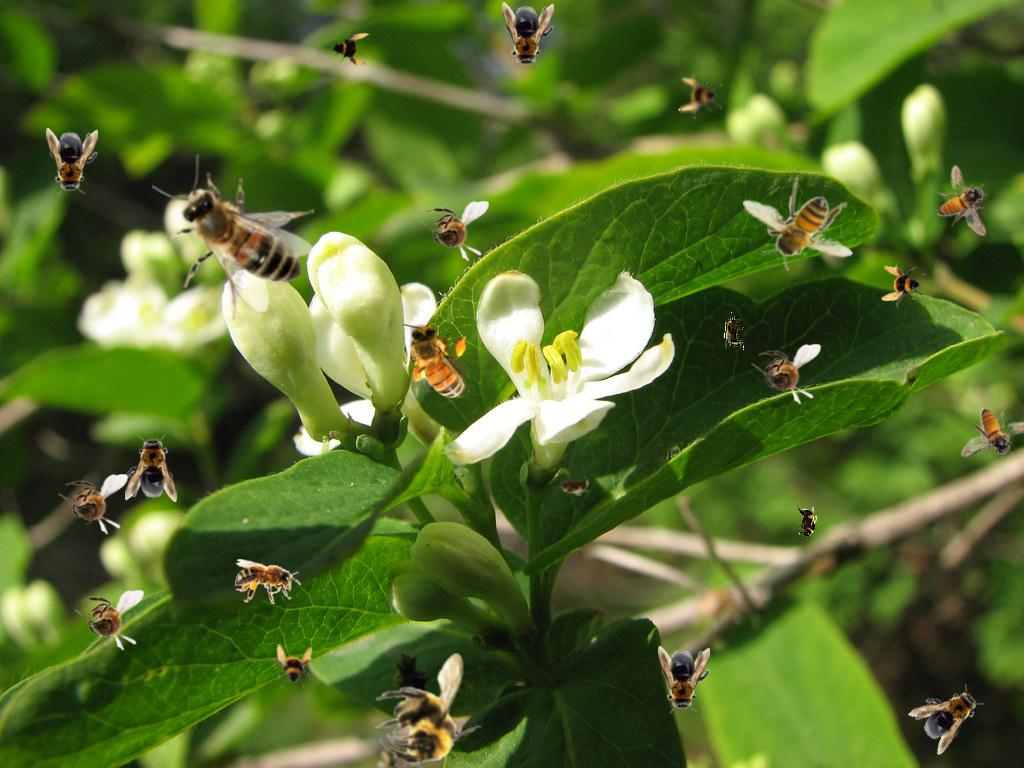Bee: (152, 154, 314, 321), (375, 653, 482, 768), (742, 177, 853, 271), (906, 672, 992, 756), (402, 318, 470, 411), (751, 344, 821, 405), (74, 590, 144, 651), (419, 201, 489, 262), (58, 474, 128, 535), (937, 165, 987, 236), (46, 128, 98, 196), (502, 2, 554, 70), (658, 646, 710, 714), (125, 434, 177, 502), (961, 408, 1024, 458), (235, 559, 301, 604), (270, 644, 314, 688), (327, 25, 371, 69), (678, 75, 722, 119), (881, 264, 925, 308), (554, 474, 594, 496), (723, 311, 745, 351), (796, 503, 818, 543)
